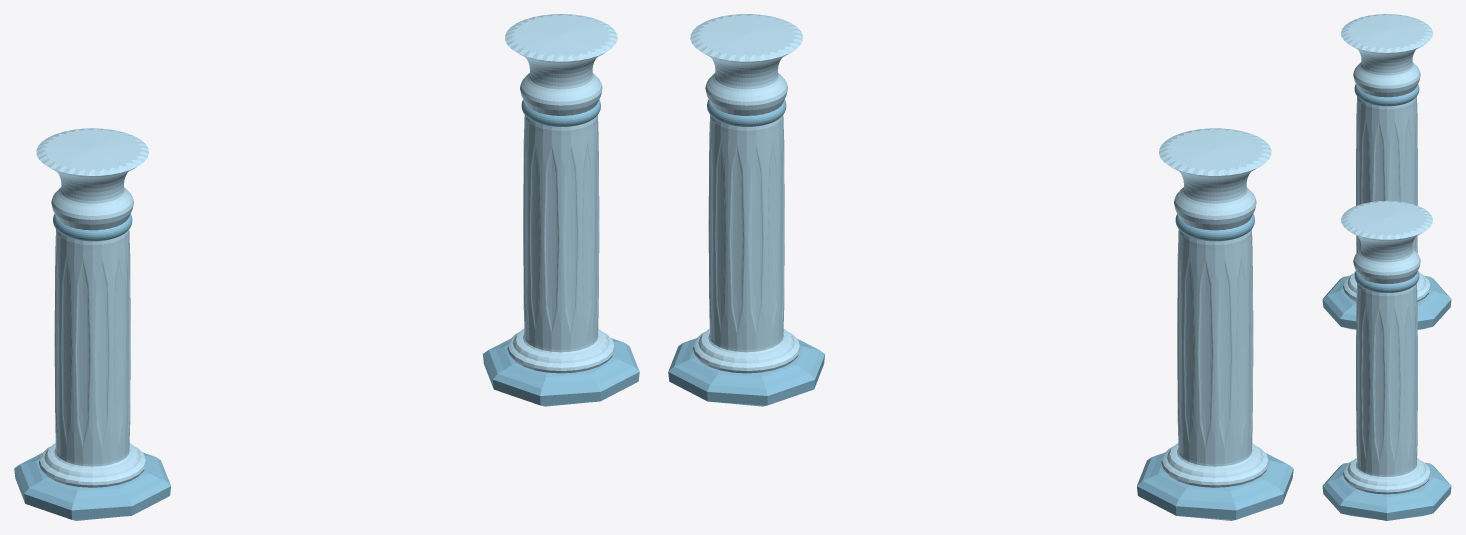
Rendered from pillars.fbx.
The picture shows the model from 3 angles, left to right: view 1: azimuth 30°, elevation 25°; view 2: azimuth 150°, elevation 25°; view 3: azimuth 270°, elevation 25°; orthographic projection. The views are drawn at different scales.
Visible parts, largest first — view 1: Circle; view 2: Circle; view 3: Circle.
Boxes of the visible parts, <box> form: Circle: <box>14,14,639,520</box>; Circle: <box>668,14,1293,520</box>; Circle: <box>1322,14,1451,520</box>.
Bounding box in the file's own units: 460 × 256 × 104.
1 material, 1 textured.
